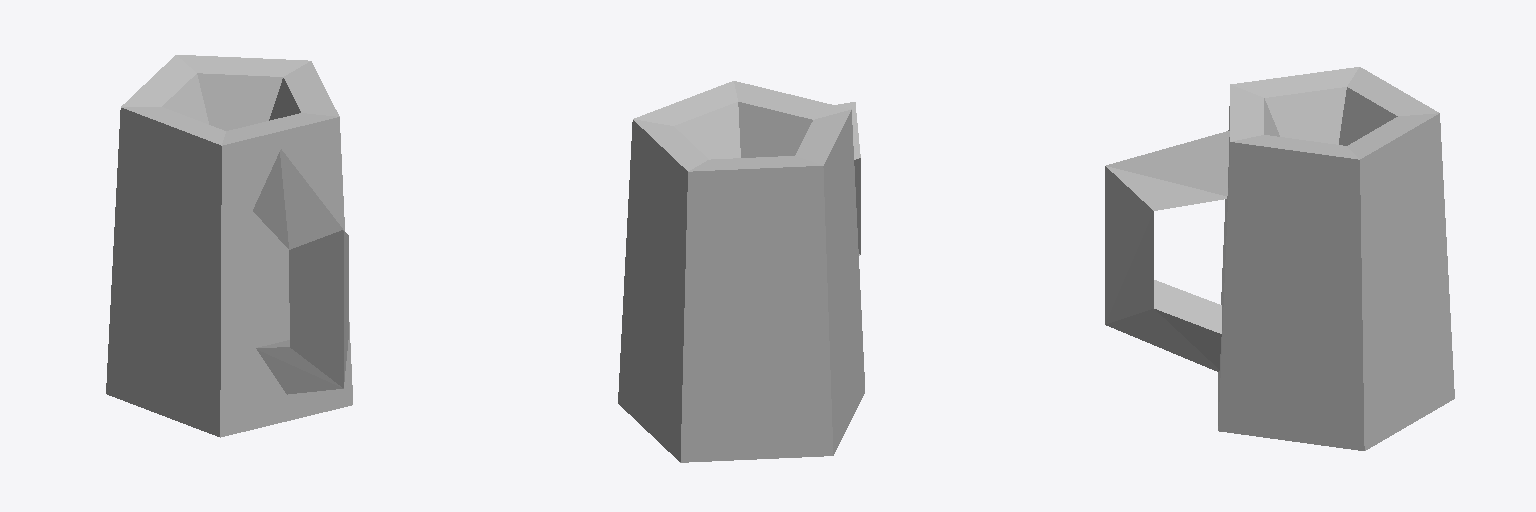
File: mug02.obj
The picture shows the model from 3 angles: view 1: azimuth 30°, elevation 25°; view 2: azimuth 150°, elevation 25°; view 3: azimuth 270°, elevation 25°; orthographic projection.
Parts seen in each view (by area): view 1: mug020; view 2: mug020; view 3: mug020.
Part boxes in pixels (bbox=[...]): mug020: bbox=[106, 55, 352, 437]; mug020: bbox=[618, 81, 864, 462]; mug020: bbox=[1105, 67, 1454, 450].
Bounding box in the file's own units: 0.3782 × 0.4789 × 0.5319.